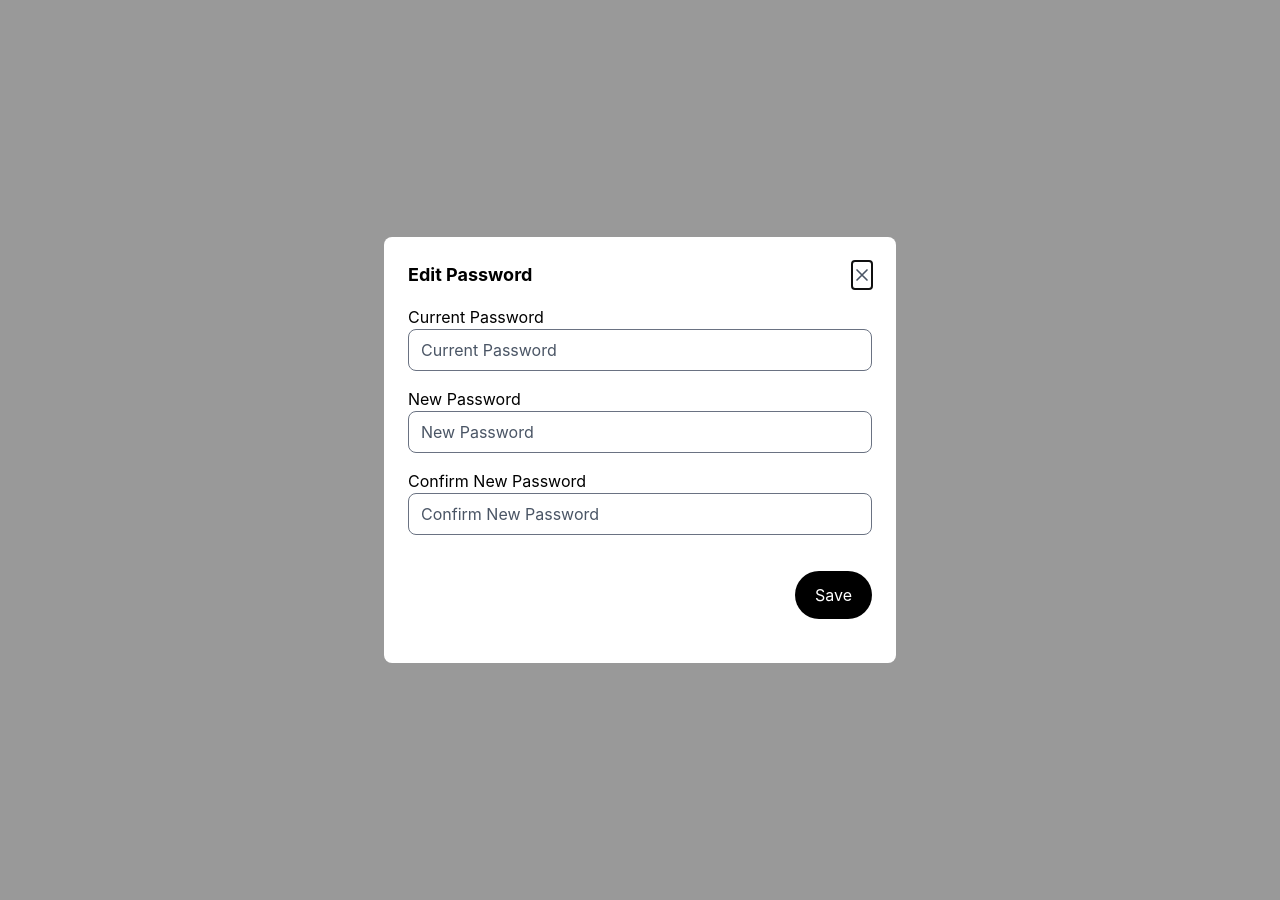
Test: shows a success message after a valid password change
Type "oldpassword" into the password field labelled "Current Password". click: x=640, y=350
box: [408,329,872,371]
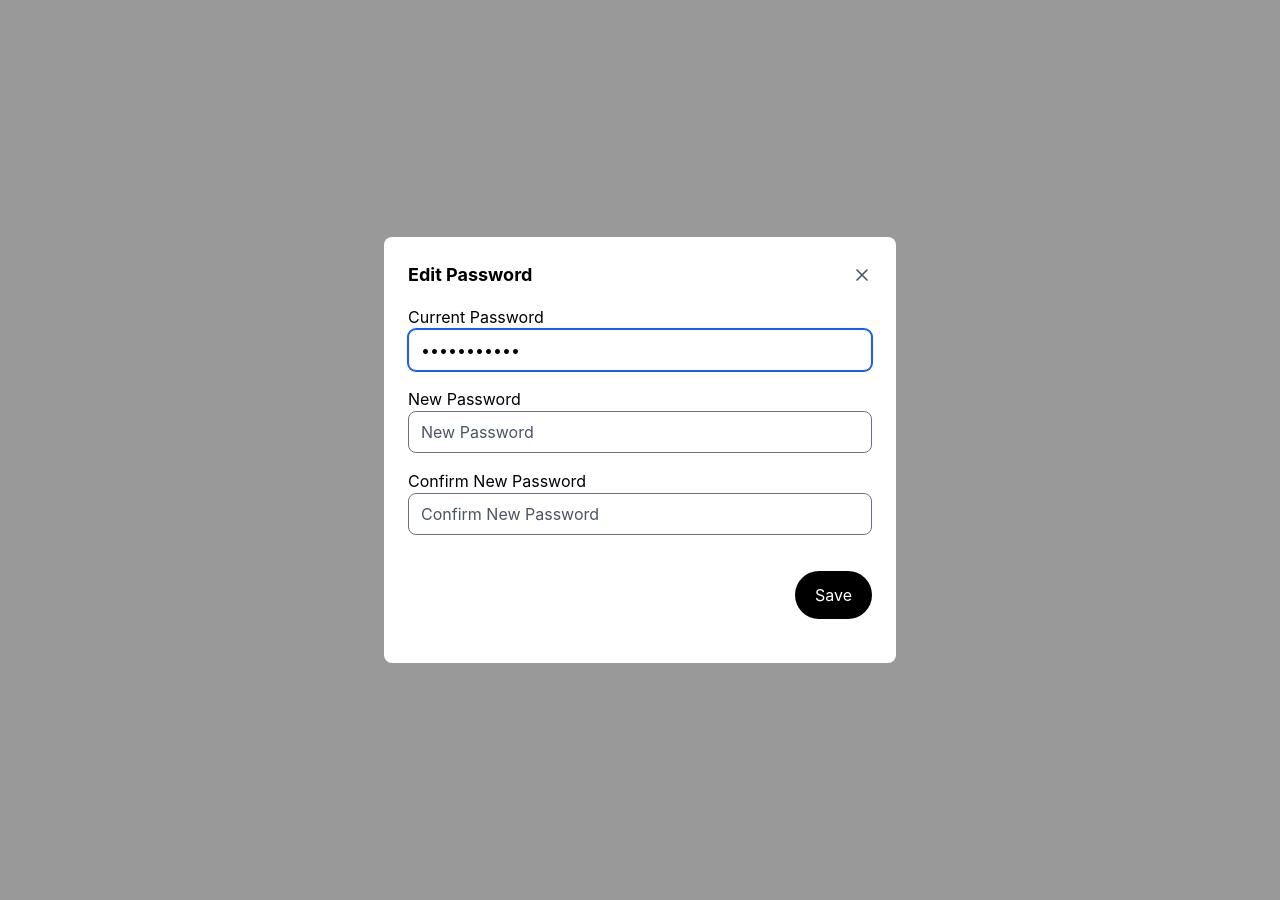
Type "newpassword123" into the password field labelled "New Password". click: x=640, y=432
box: [408,411,872,453]
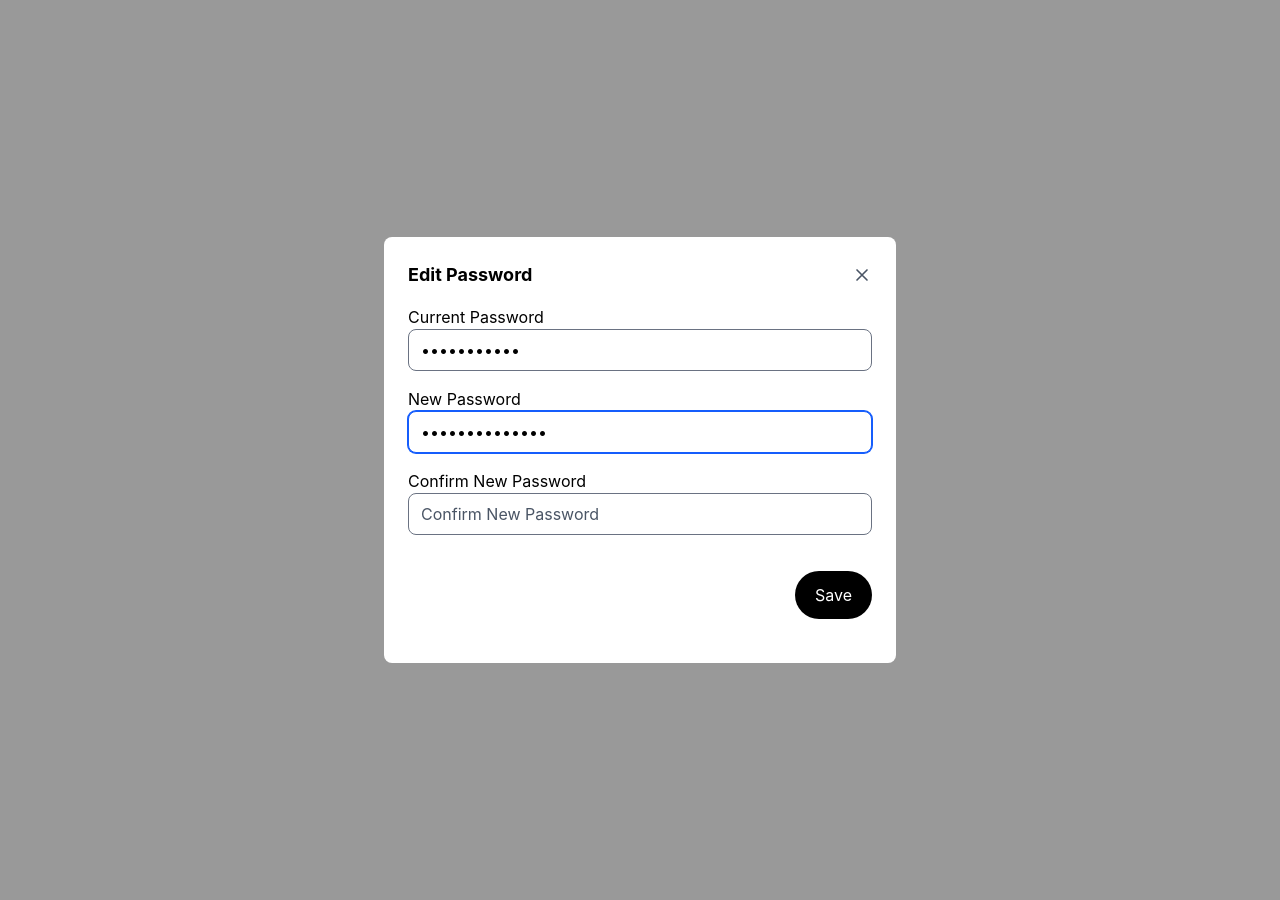
Type "newpassword123" into the password field labelled "Confirm New Password". click: x=640, y=514
box: [408,493,872,535]
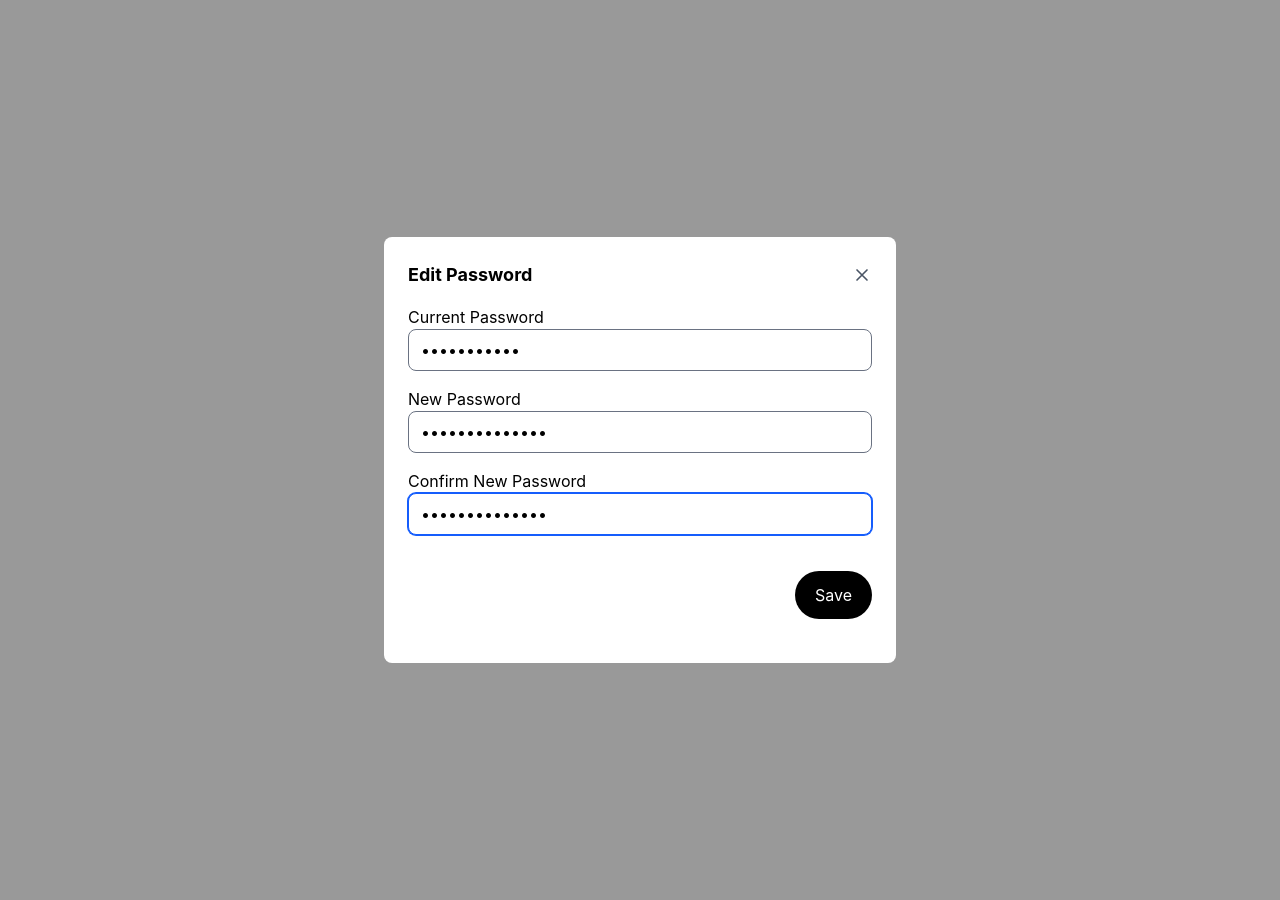
Click the button "Save". click: x=834, y=595
box: [795,571,872,619]
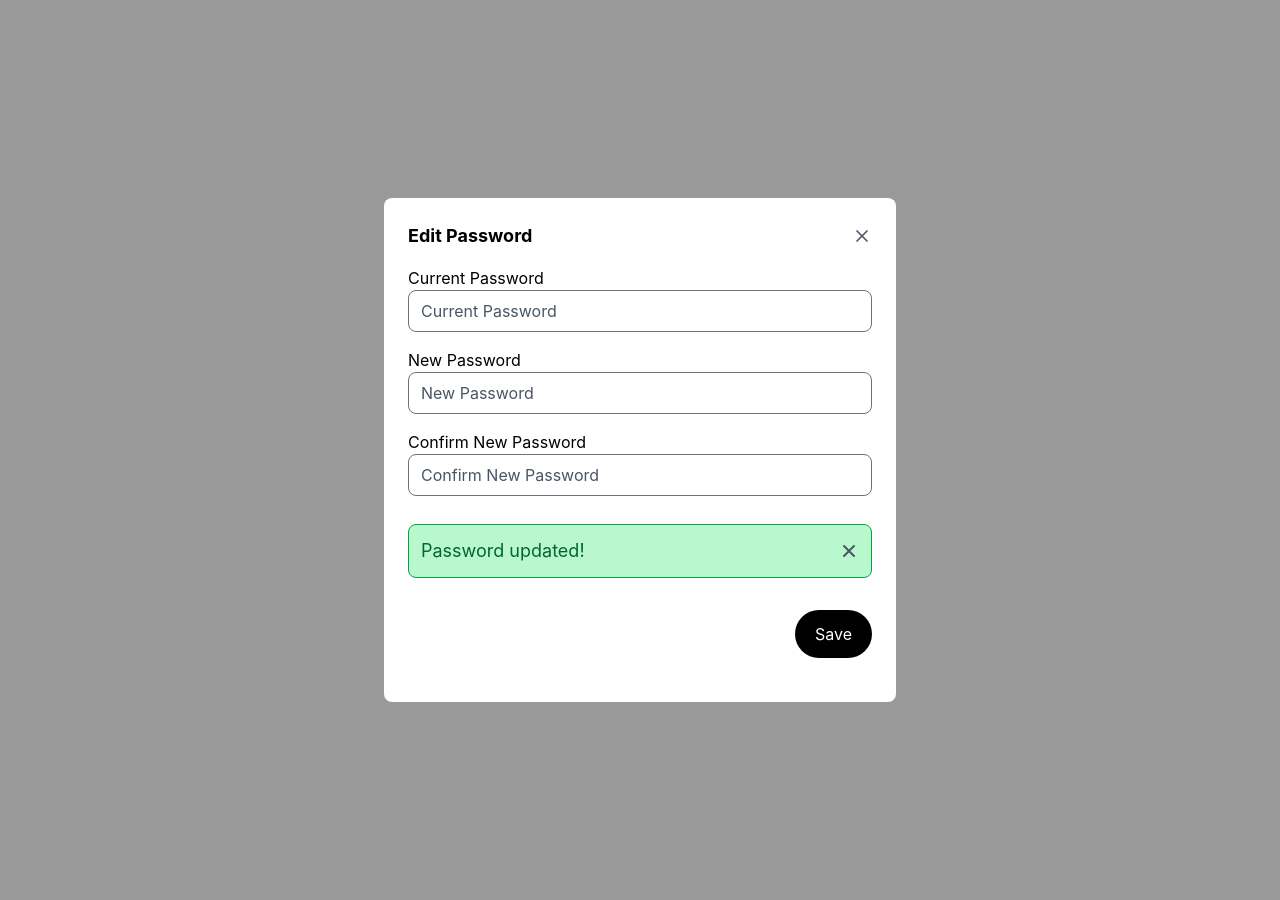
Expected: the text "Password updated!" is shown, [421,537,585,565]
